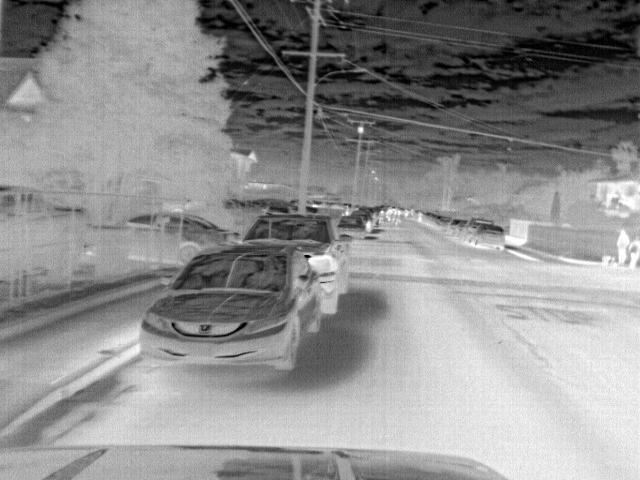car: (140, 243, 321, 373), (242, 213, 352, 315), (128, 212, 239, 263), (472, 224, 506, 251), (463, 218, 493, 248), (334, 214, 368, 236), (350, 211, 374, 233), (264, 204, 295, 216), (444, 220, 466, 236), (436, 218, 454, 230)
dog: (601, 253, 618, 268)
person: (616, 226, 629, 270), (626, 242, 638, 273)
